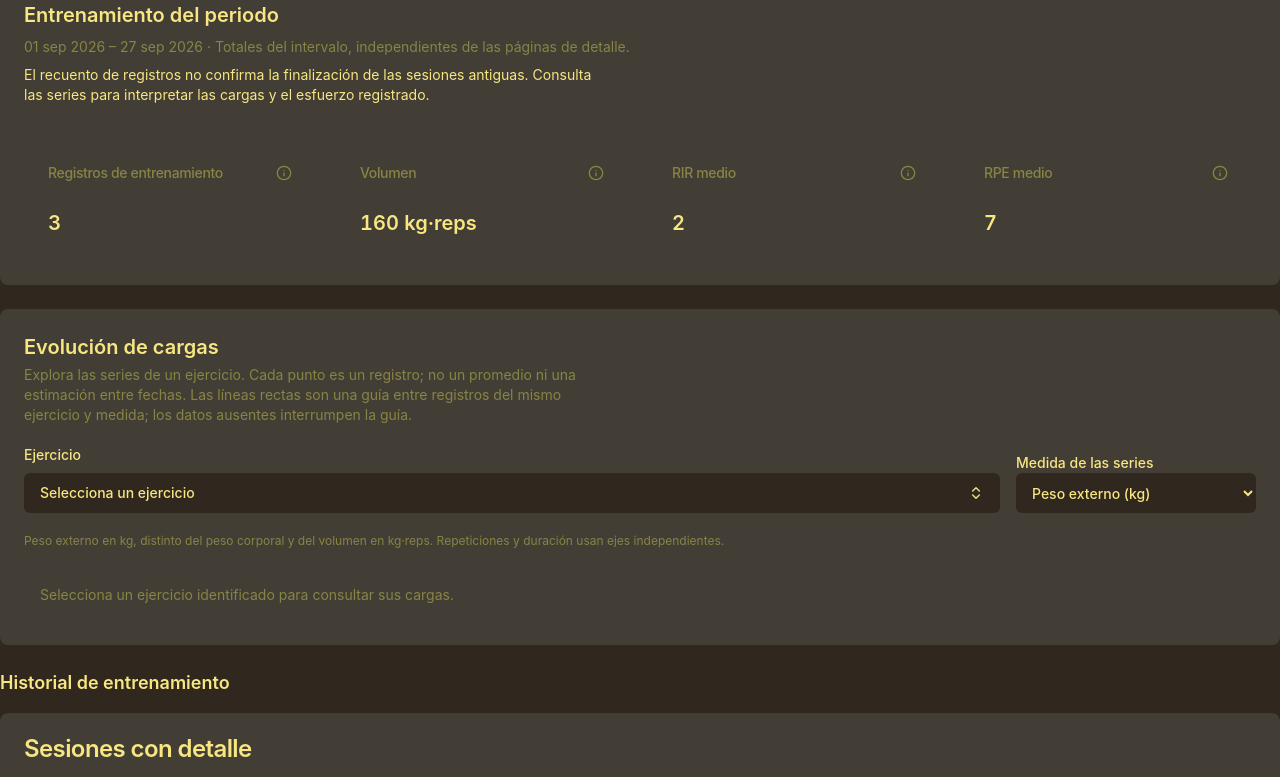
Test: moves notes into accessible bubbles and keeps historical records last
Expected: the text "Suma de peso" is not shown
Hover over the button named "Información sobre Volumen" at {"x": 596, "y": 173}, box left=576, top=153, right=616, bottom=193
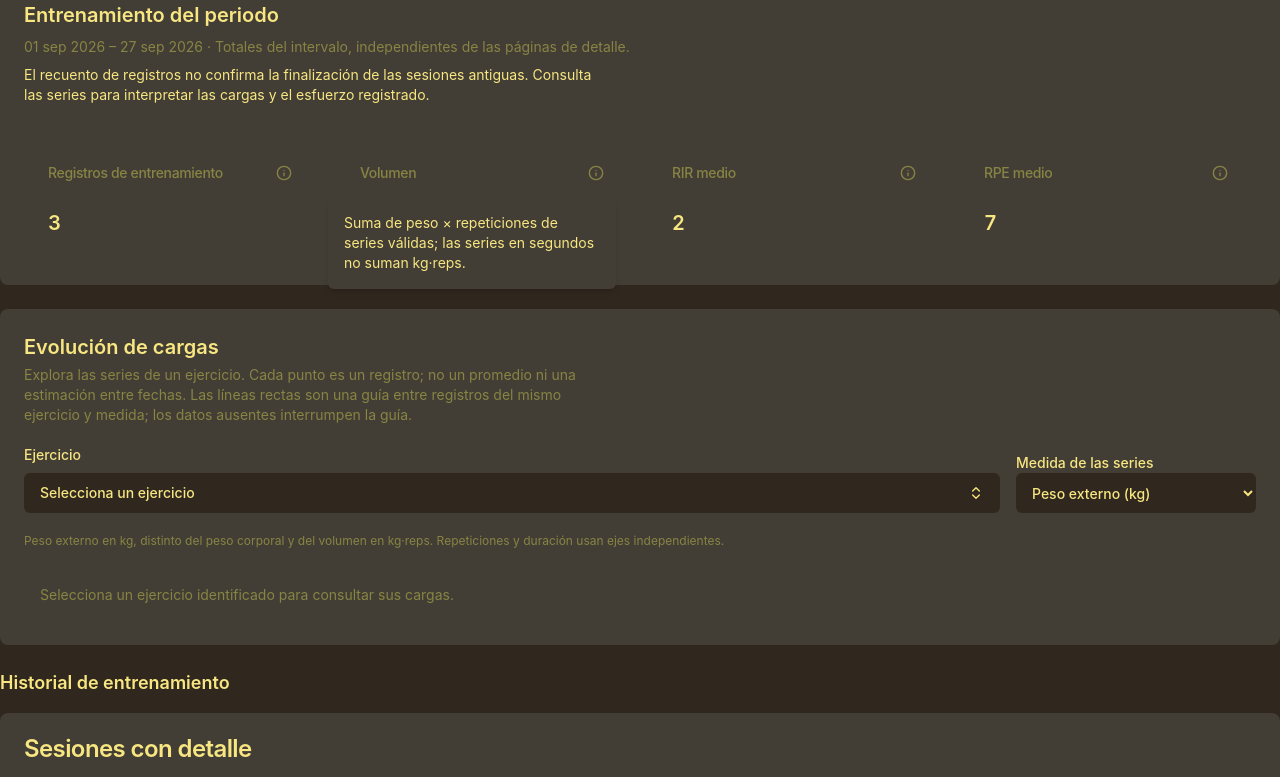
Now the text "Suma de peso" is shown, box left=344, top=214, right=594, bottom=271
Press Escape
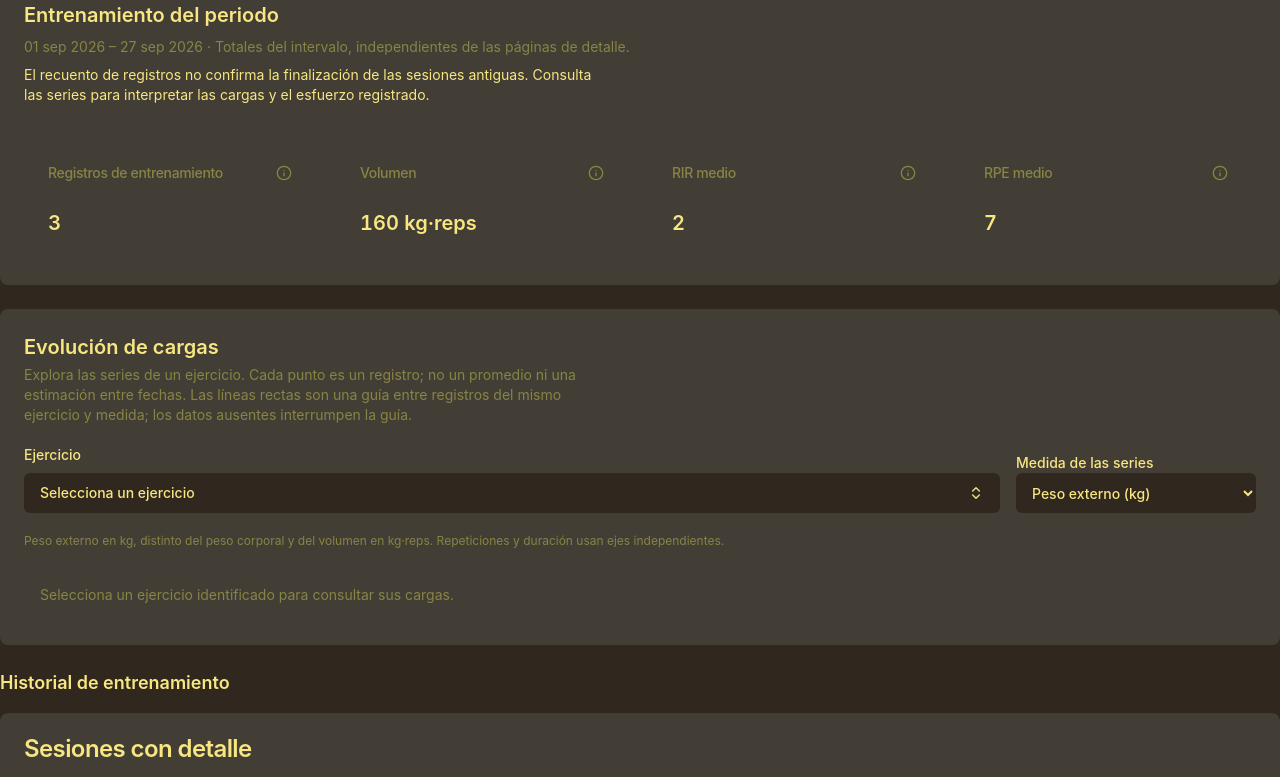
Now the text "Suma de peso" is gone
Click the button named "Información sobre Volumen". click: {"x": 596, "y": 173}
box: left=576, top=153, right=616, bottom=193
(page scrolled)
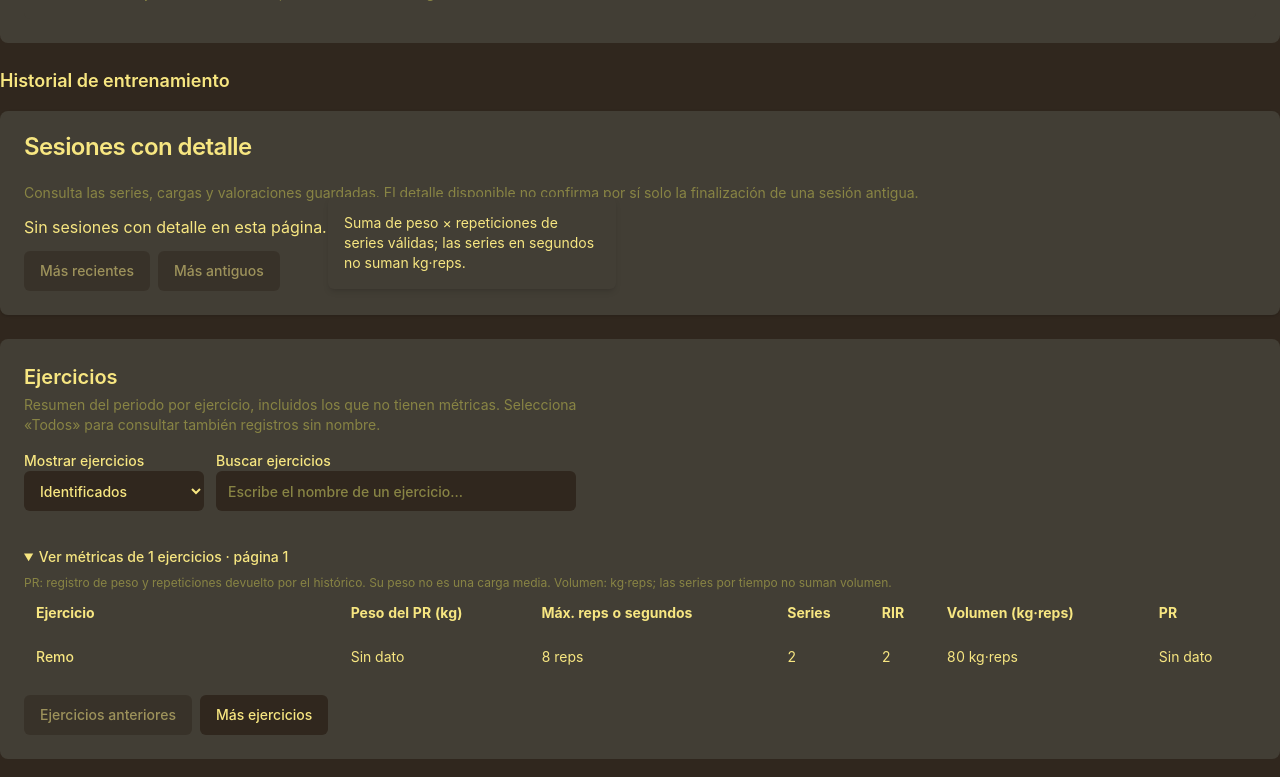
Now the text "Suma de peso" is shown, box left=344, top=214, right=594, bottom=271
Click the heading "Ejercicios". click: {"x": 71, "y": 377}
box: left=24, top=365, right=118, bottom=389
(page scrolled)
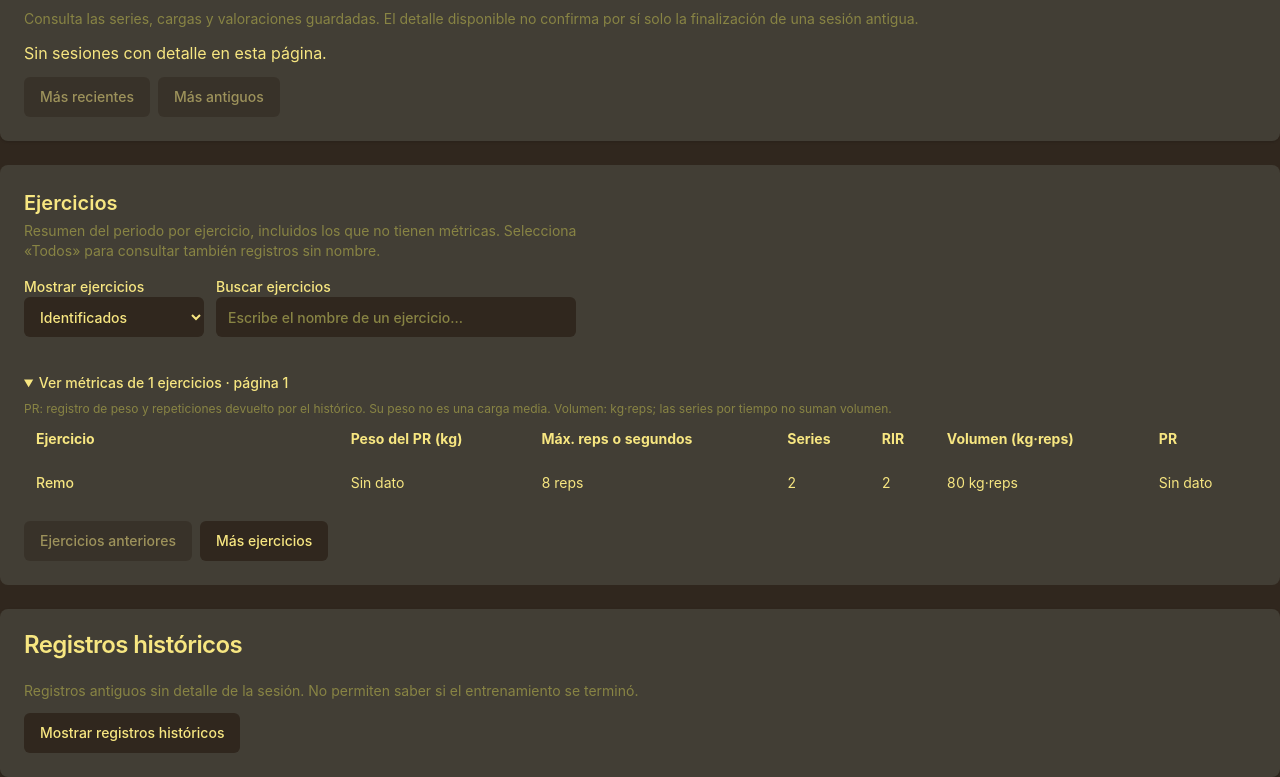
Expected: the heading "Registros históricos" is shown, left=24, top=630, right=242, bottom=659
Now the text "Suma de peso" is gone
